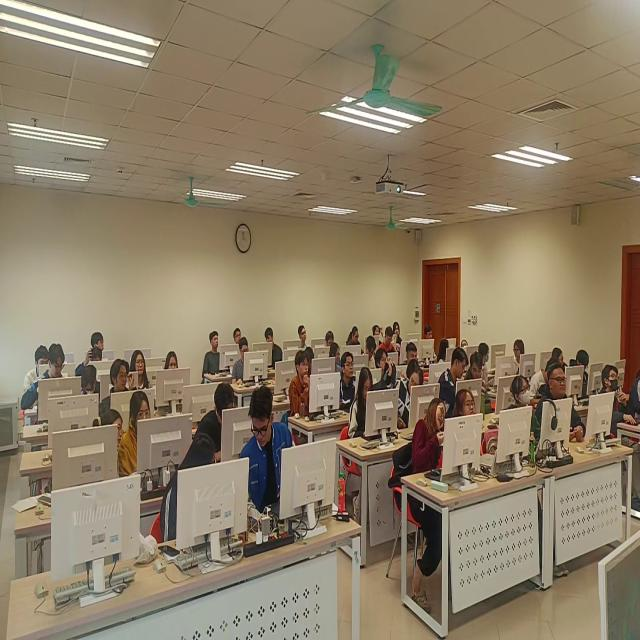raise_head: (537, 360, 588, 448), (510, 374, 543, 455), (599, 362, 629, 427), (286, 347, 313, 415), (103, 358, 129, 414), (129, 347, 154, 389), (203, 331, 225, 376), (376, 346, 390, 372), (165, 347, 180, 371), (299, 323, 310, 348), (425, 325, 438, 342), (233, 325, 244, 342), (372, 322, 384, 337), (393, 319, 402, 338)
using_computer: (202, 377, 236, 466), (349, 365, 378, 442), (25, 345, 49, 392), (46, 338, 68, 387), (570, 347, 592, 393), (234, 336, 253, 386), (80, 362, 102, 399), (381, 325, 399, 353), (546, 344, 565, 368), (344, 324, 363, 347), (365, 335, 377, 369), (404, 340, 421, 364), (85, 345, 106, 363), (325, 329, 335, 348), (307, 346, 318, 360)
